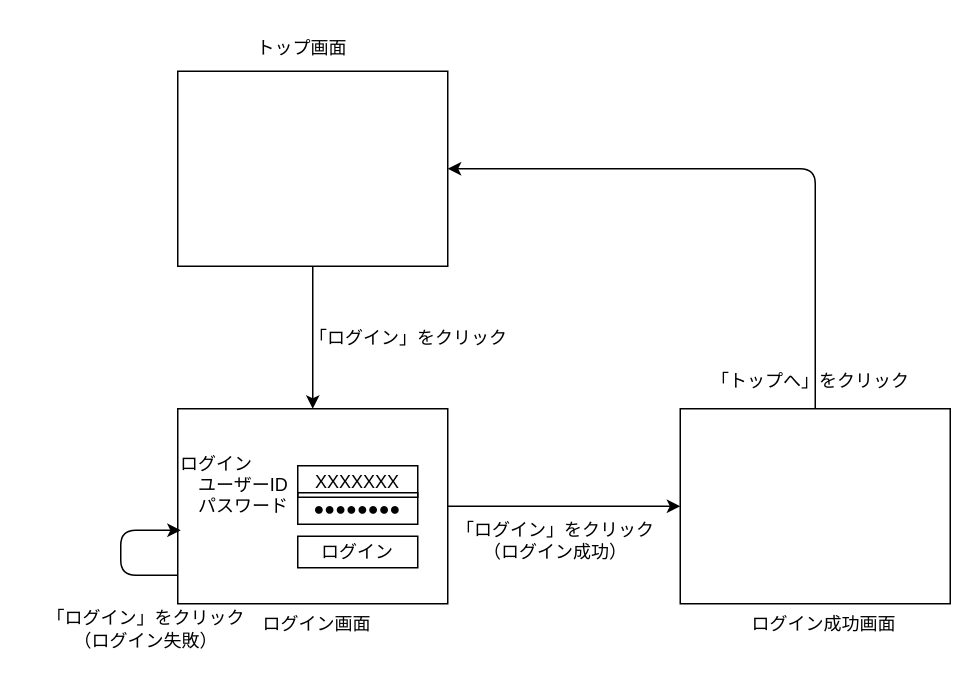
Some shapes in this 977 by 677 pixel diagram are drawn without their labels. Here are the shapes that lost their labels. From the top down, the centre of each, then its label:
the point at 312,168: メニュー ・ ログイン ・ ユーザー登録
the point at 814,505: ログイン成功 ようこそ{ユーザーID}さん JAVAクイズ トップへ
